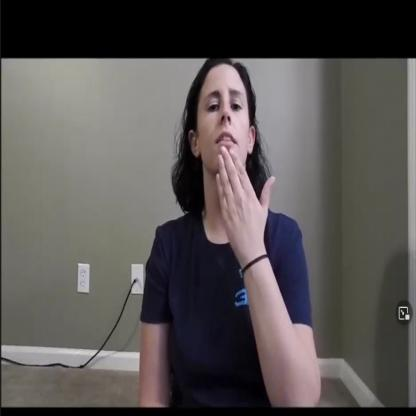ThankYou: (170, 58, 298, 282)
